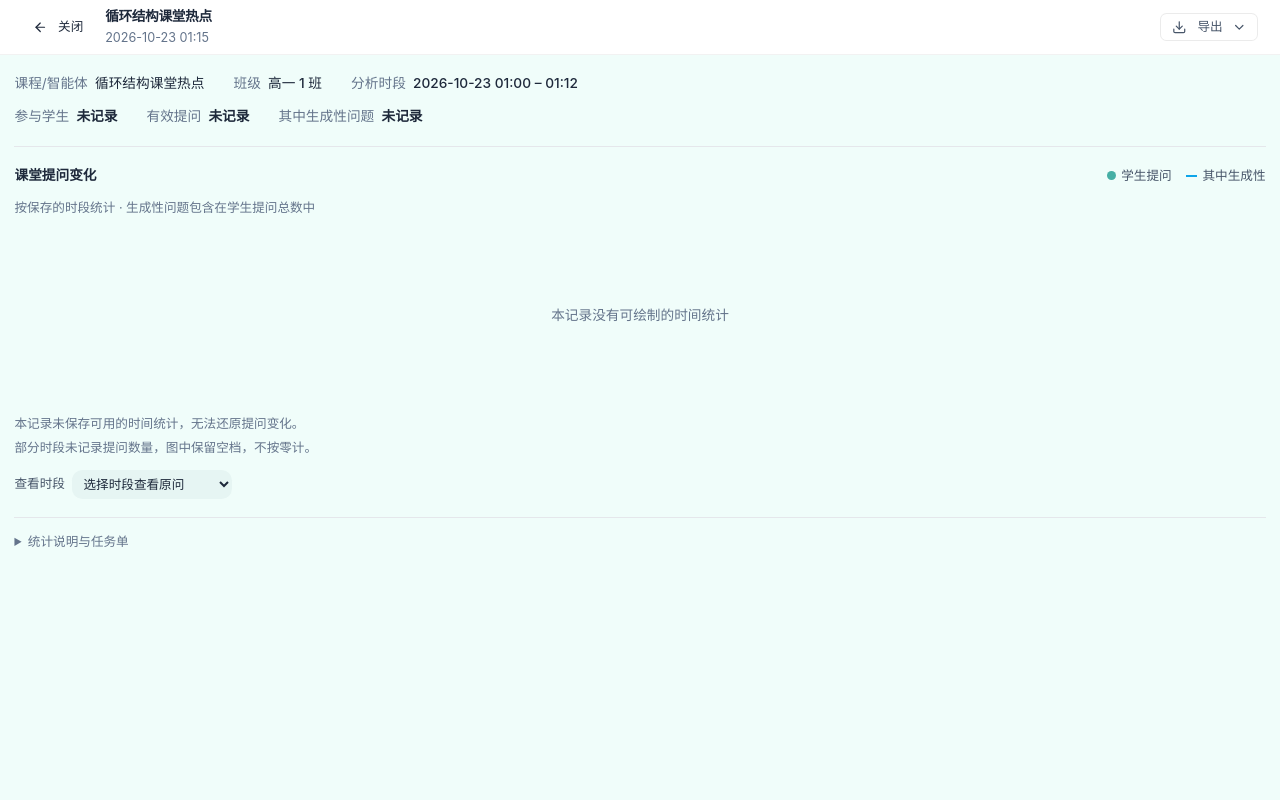
Test: HotAnalysisResultPage › 没有统计的记录显示明确空态，仍保留导出入口
Expected: the message shows "没有可绘制的时间统计", [551,307,729,323]
What coordinates should you click on to do the following:
click the button "导出"
I would click on:
 (1209, 27)
Its box is [1160,13,1258,41].
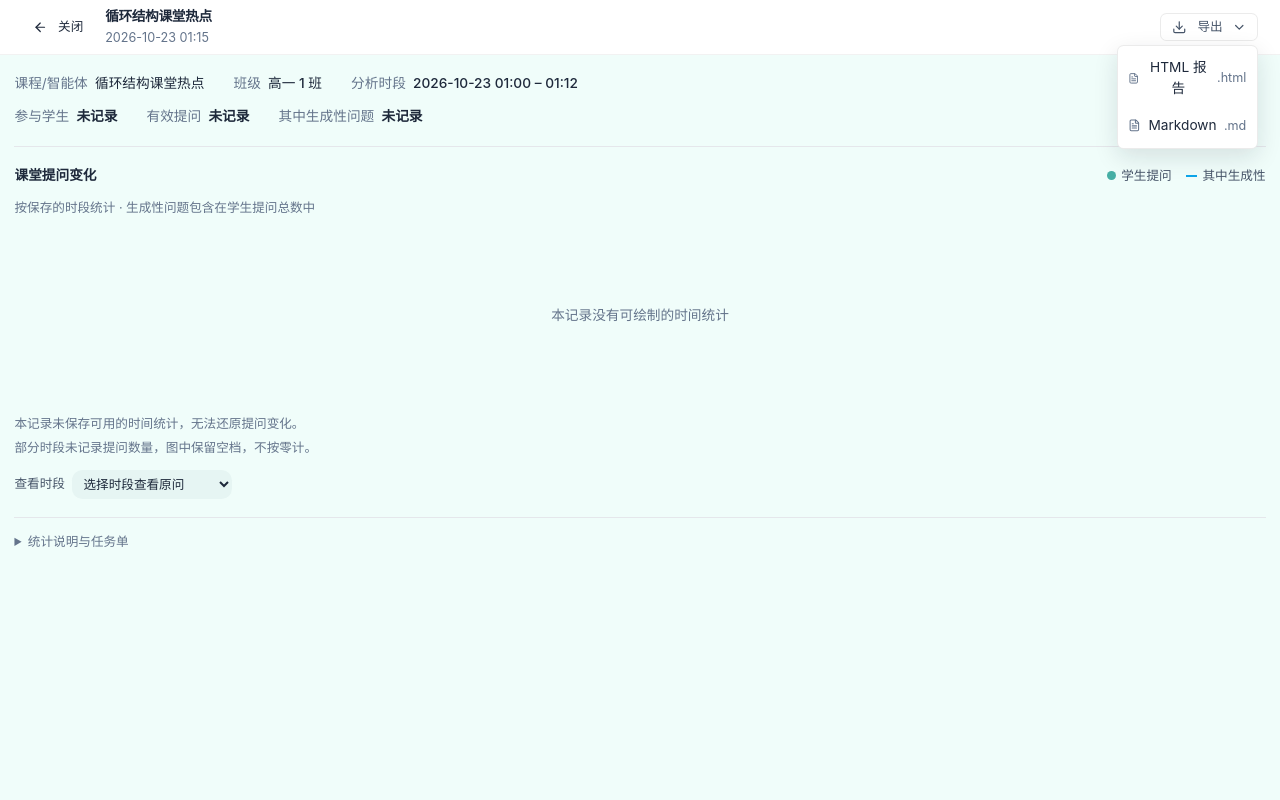
Expected: the button "HTML 报告 .html" is shown, [1118,49,1257,108]
Expected: the button "Markdown .md" is shown, [1118,108,1257,144]
